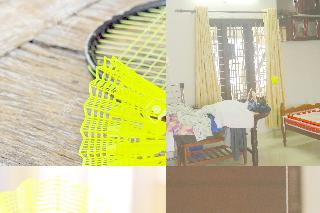shuttlecock: (78, 55, 165, 165), (0, 176, 124, 212), (270, 76, 278, 86)
